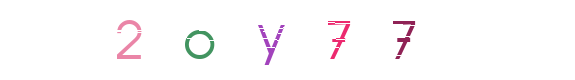2: (141, 0, 221, 80)
7: (248, 0, 328, 80), (334, 0, 414, 80)
O: (159, 0, 239, 80)
Y: (236, 0, 316, 80)
